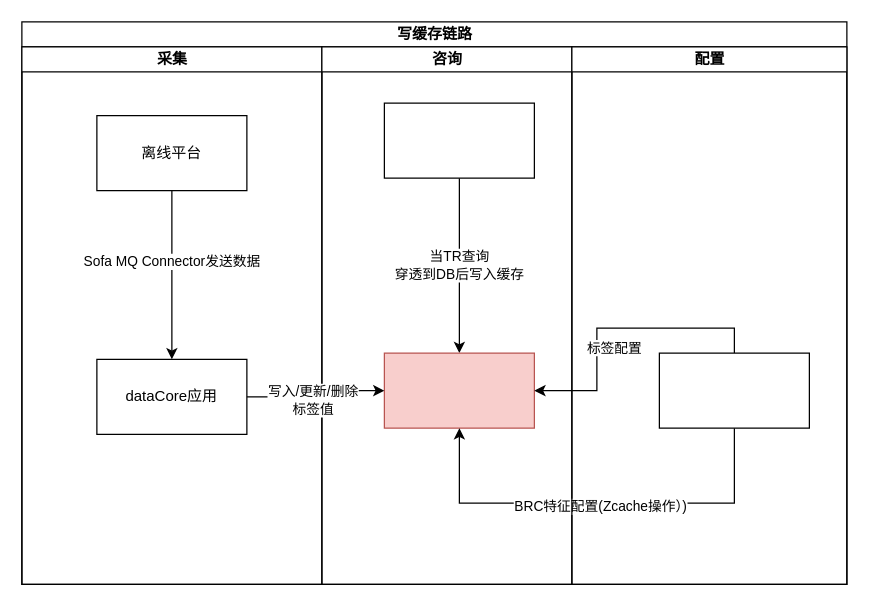
This 869x606 diagram has some shape labels left out. The centre of each missing label's shape, as x and y in pixels:
"rcdataservice" goes at (458,140).
"rcfeaturemng" goes at (733,390).
"Tbase缓存" goes at (458,390).
